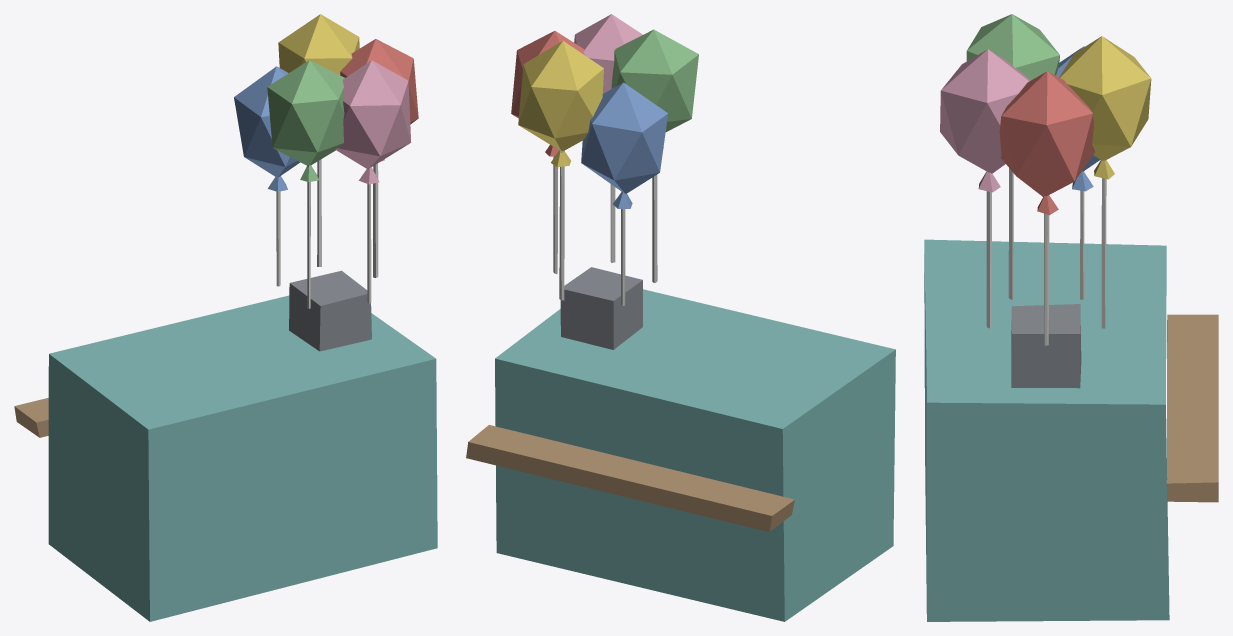
Rendered from balloonstall.fbx.
3 renders of one model, left to right at view 1: azimuth 30°, elevation 25°; view 2: azimuth 150°, elevation 25°; view 3: azimuth 270°, elevation 25°, orthographic. The views are drawn at different scales.
Visible parts, largest first — view 1: BalloonStall; view 2: BalloonStall; view 3: BalloonStall.
Part boxes in pixels (x1,y1,x2,y2): BalloonStall: [14, 14, 437, 621]; BalloonStall: [466, 14, 895, 621]; BalloonStall: [924, 14, 1218, 621].
Size of the model in its own units: 2.51 by 3.63 by 1.71.
